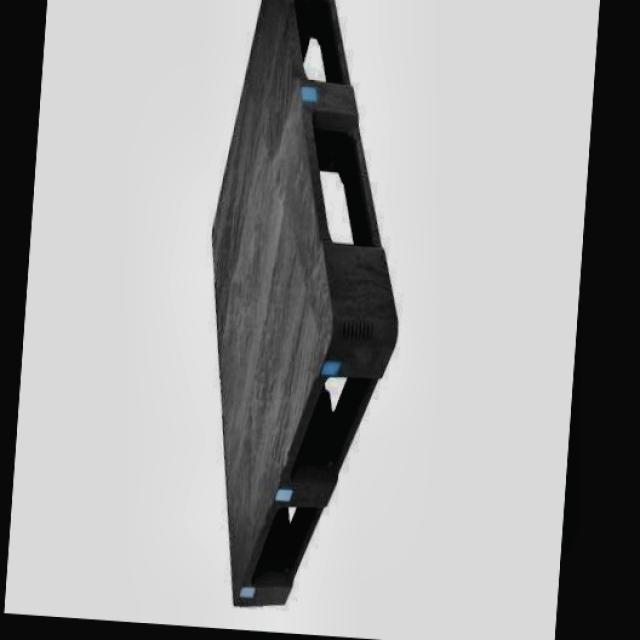non-igps: (203, 0, 404, 613)
